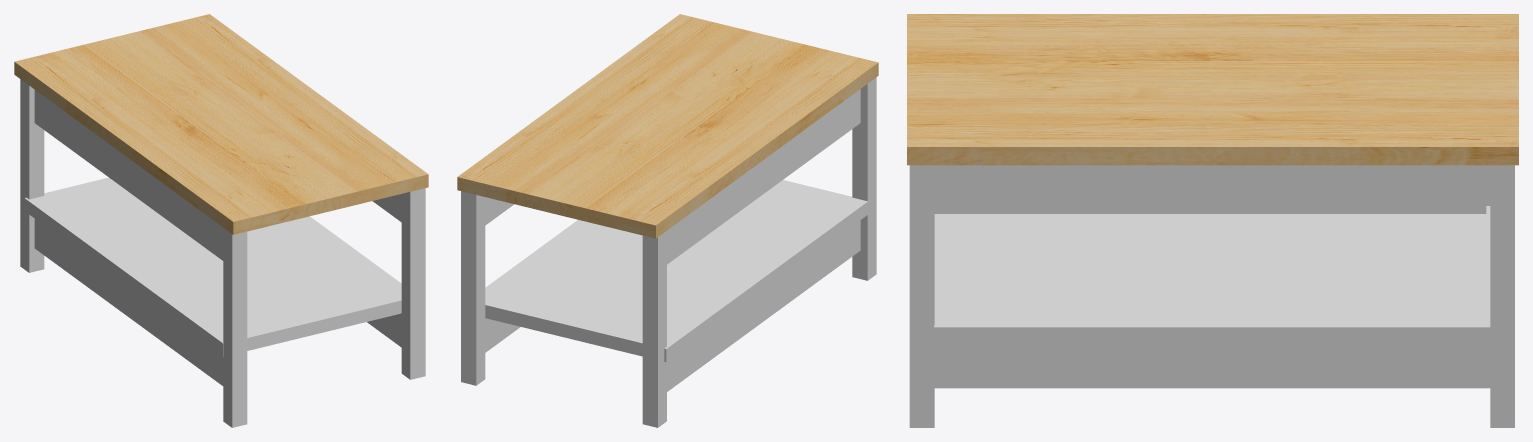
Rendered from IkeaDesk.fbx.
3 renders of one model, left to right at view 1: azimuth 30°, elevation 25°; view 2: azimuth 150°, elevation 25°; view 3: azimuth 270°, elevation 25°, orthographic. The views are drawn at different scales.
Visible parts, largest first — view 1: Wood, Cube.009, Cube.006, Cube.008, Cube.004, Cube.001, Cube.003, Cube.007, Cube.005; view 2: Wood, Cube.009, Cube.006, Cube.008, Cube.002, Cube.003, Cube.004, Cube.007, Cube.005; view 3: Wood, Cube.009, Cube.005, Cube.007, Cube.001, Cube.002.
Part boxes in pixels (bbox=[...]): Wood: bbox=[14, 14, 428, 234]; Cube.009: bbox=[24, 177, 401, 356]; Cube.006: bbox=[34, 90, 223, 260]; Cube.008: bbox=[34, 219, 223, 385]; Cube.004: bbox=[223, 228, 247, 427]; Cube.001: bbox=[401, 188, 425, 379]; Cube.003: bbox=[20, 79, 44, 272]; Cube.007: bbox=[367, 313, 401, 347]; Cube.005: bbox=[372, 194, 401, 222]; Wood: bbox=[457, 14, 878, 238]; Cube.009: bbox=[485, 180, 868, 362]; Cube.006: bbox=[667, 89, 860, 264]; Cube.008: bbox=[667, 220, 860, 391]; Cube.002: bbox=[461, 191, 485, 385]; Cube.003: bbox=[642, 231, 666, 427]; Cube.004: bbox=[852, 77, 876, 280]; Cube.007: bbox=[485, 318, 520, 352]; Cube.005: bbox=[485, 197, 514, 225]; Wood: bbox=[907, 14, 1518, 165]; Cube.009: bbox=[934, 206, 1490, 345]; Cube.005: bbox=[934, 165, 1486, 213]; Cube.007: bbox=[934, 345, 1490, 388]; Cube.001: bbox=[909, 165, 934, 427]; Cube.002: bbox=[1490, 165, 1514, 427].
Bounding box in the file's own units: 200 × 203 × 388.
2 materials, 1 textured.
